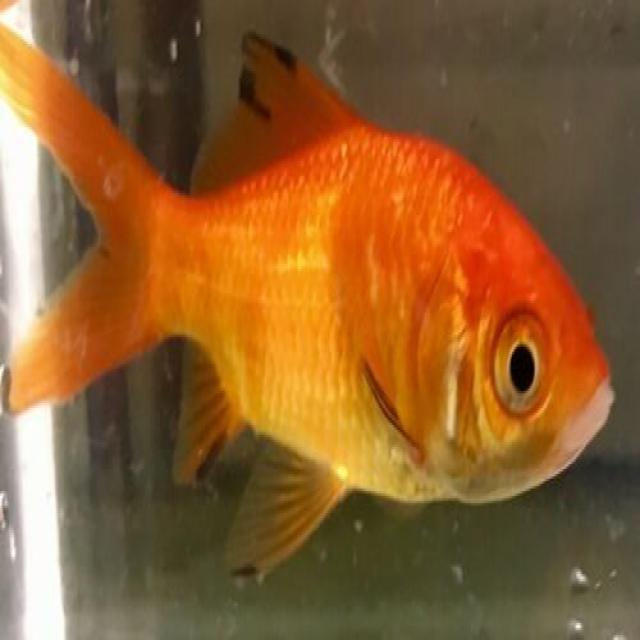Gold-Fish: (0, 0, 640, 605)
